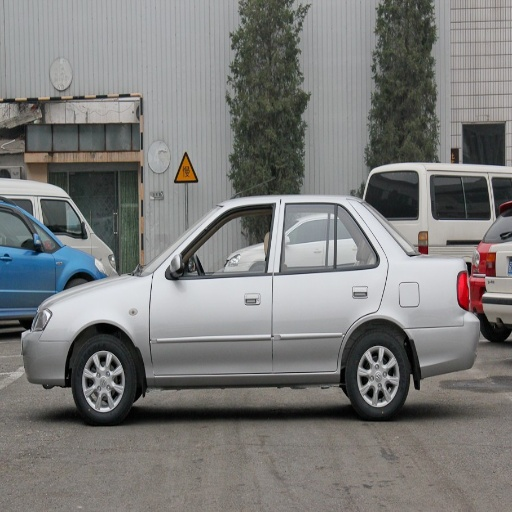back_bumper: (415, 316, 480, 377)
back_left_door: (271, 201, 386, 370)
front_left_door: (155, 203, 281, 374)
